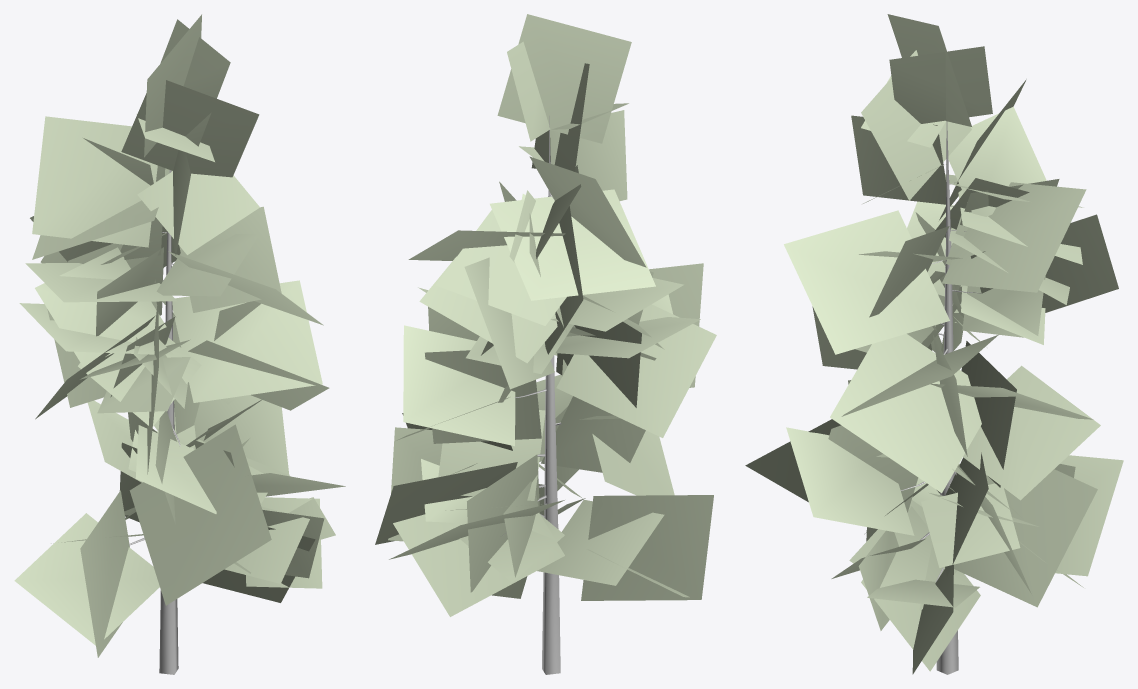
Rendered from sugi_lo.glb.
3 renders of one model, left to right at view 1: azimuth 30°, elevation 25°; view 2: azimuth 150°, elevation 25°; view 3: azimuth 270°, elevation 25°, orthographic.
Bounding box in the file's own units: 14.31 × 30 × 15.64.
